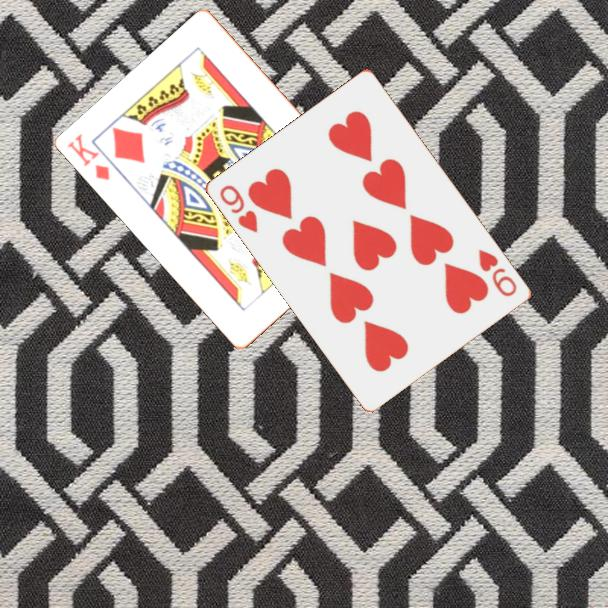d13: (64, 130, 113, 183)
h09: (216, 181, 261, 236), (475, 246, 520, 300)
